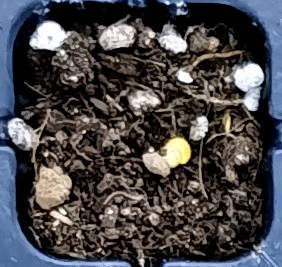pepper seed: (66, 54, 258, 220), (68, 61, 248, 231)
